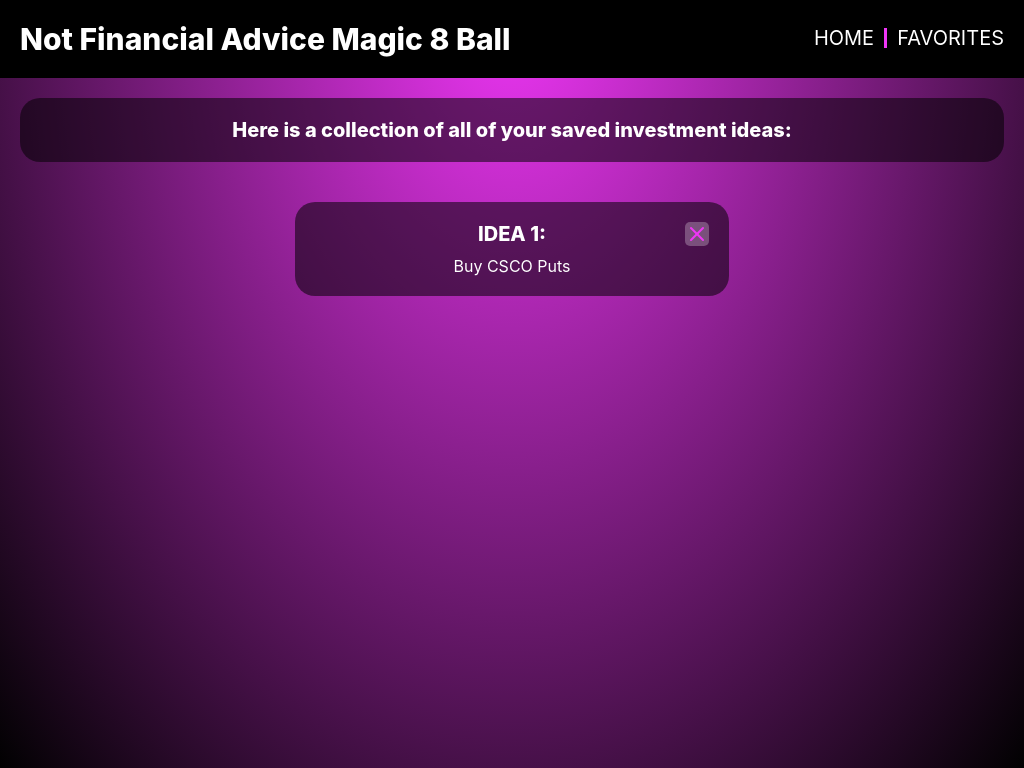
Test: Load Website, check for elements, and check for functionality › should be able to delete favorite
The width and height of the screenshot is (1024, 768).
Click the picture with class "remove-idea-button": (697,234) [685, 222, 709, 246]
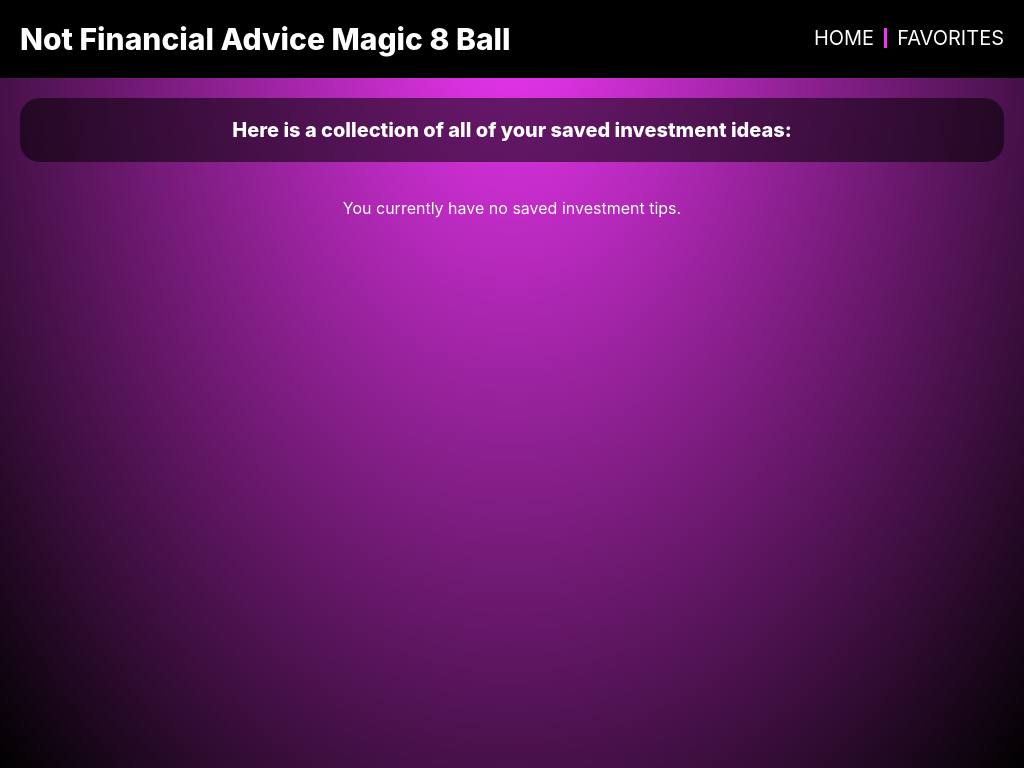
expect the text "You currently have no saved investment tips." is shown: met, box [343, 198, 681, 218]
